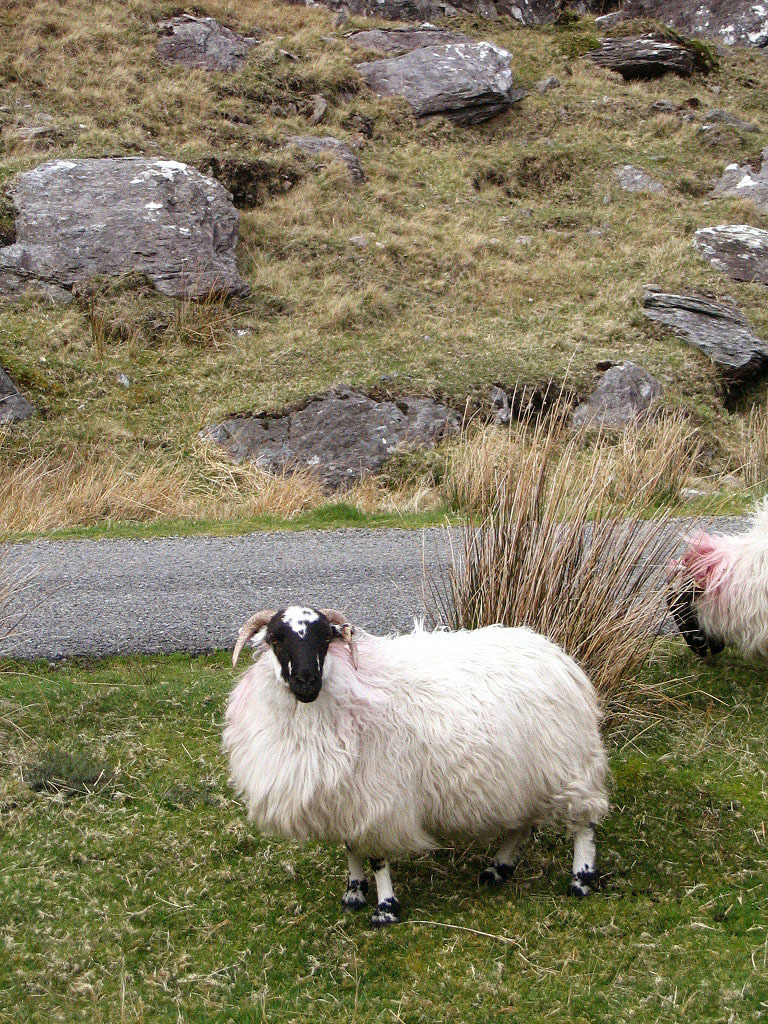sheep: (217, 606, 646, 915)
